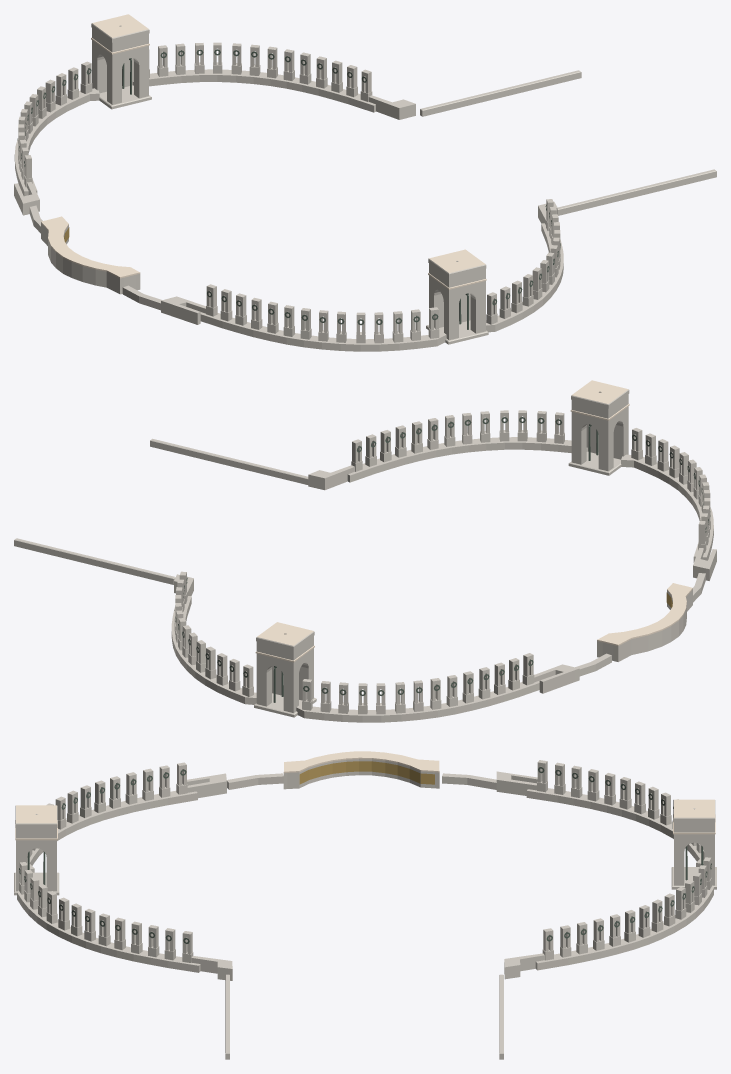
3 views of the same model, one above another, from view 1: azimuth 30°, elevation 25°; view 2: azimuth 150°, elevation 25°; view 3: azimuth 270°, elevation 25° (orthographic).
Visible parts, largest first — view 1: national-world-war-ii-memorial; view 2: national-world-war-ii-memorial; view 3: national-world-war-ii-memorial.
Part boxes in pixels (x1=…): national-world-war-ii-memorial: x1=14, y1=14, x2=716, y2=351; national-world-war-ii-memorial: x1=14, y1=380, x2=716, y2=722; national-world-war-ii-memorial: x1=14, y1=751, x2=716, y2=1059.
Bounding box in the file's own units: 114 × 13 × 117.
